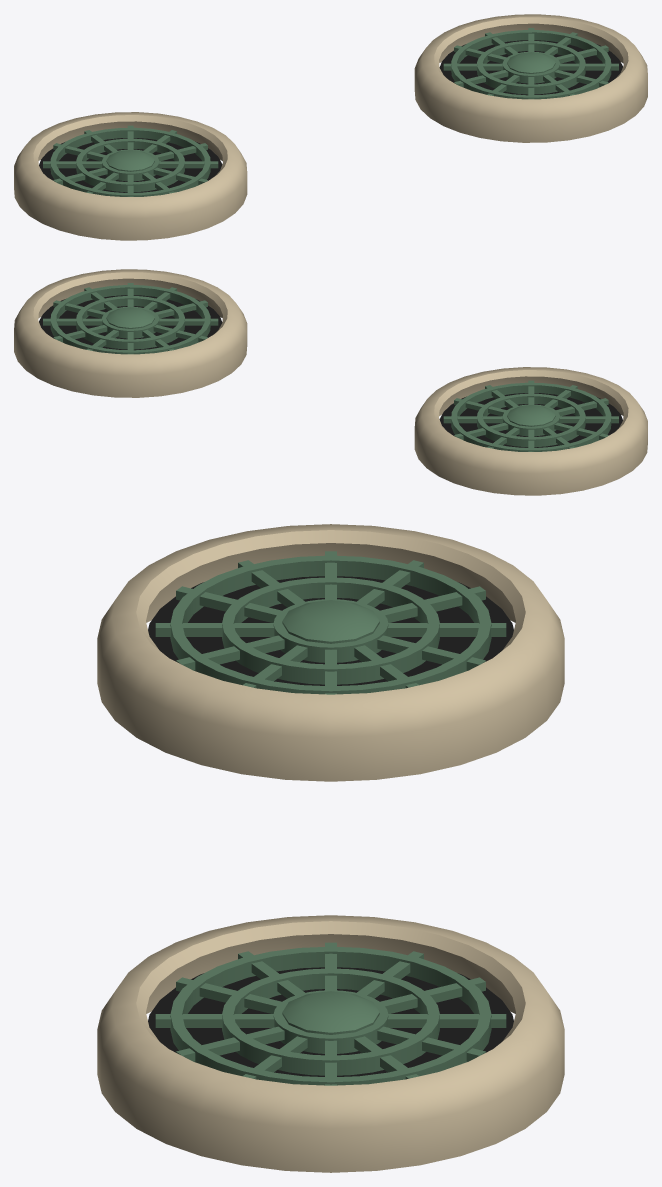
The model's file is t60_fan.obj.
3 renders of one model, top to bottom at view 1: azimuth 30°, elevation 25°; view 2: azimuth 150°, elevation 25°; view 3: azimuth 270°, elevation 25°, orthographic. The views are drawn at different scales.
Parts seen in each view (by area): view 1: t60_fan; view 2: t60_fan; view 3: t60_fan.
Part boxes in pixels (box(x1,y1,x2,y2)): t60_fan: box(14, 14, 647, 240); t60_fan: box(14, 269, 647, 495); t60_fan: box(97, 524, 564, 1172).
Size of the model in its own units: 2.86 by 0.16 by 0.96.
